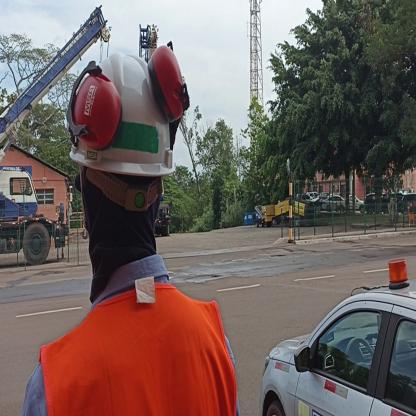Balaclava: (90, 168, 165, 278)
Capacete: (79, 50, 168, 168)
